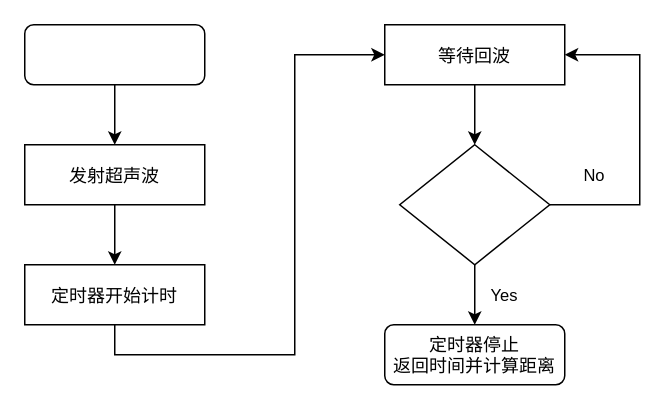
Some shapes in this 665 by 410 pixel diagram are drawn without their labels. The shapes that lost their labels are listed below. From the top down, each one's centre as x and y in pixels, then its label:
At [114,54]: "初始化定时器".
At [474,204]: "是否有回波".
